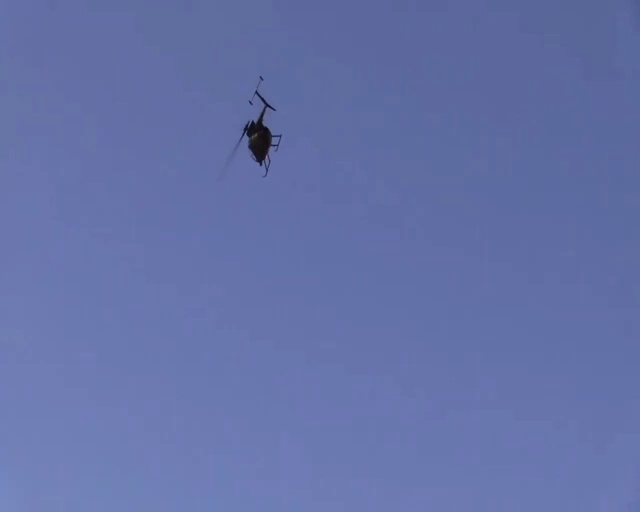HELICOPTER: (218, 75, 283, 179)
